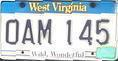placa de veiculo: (1, 1, 114, 60)
